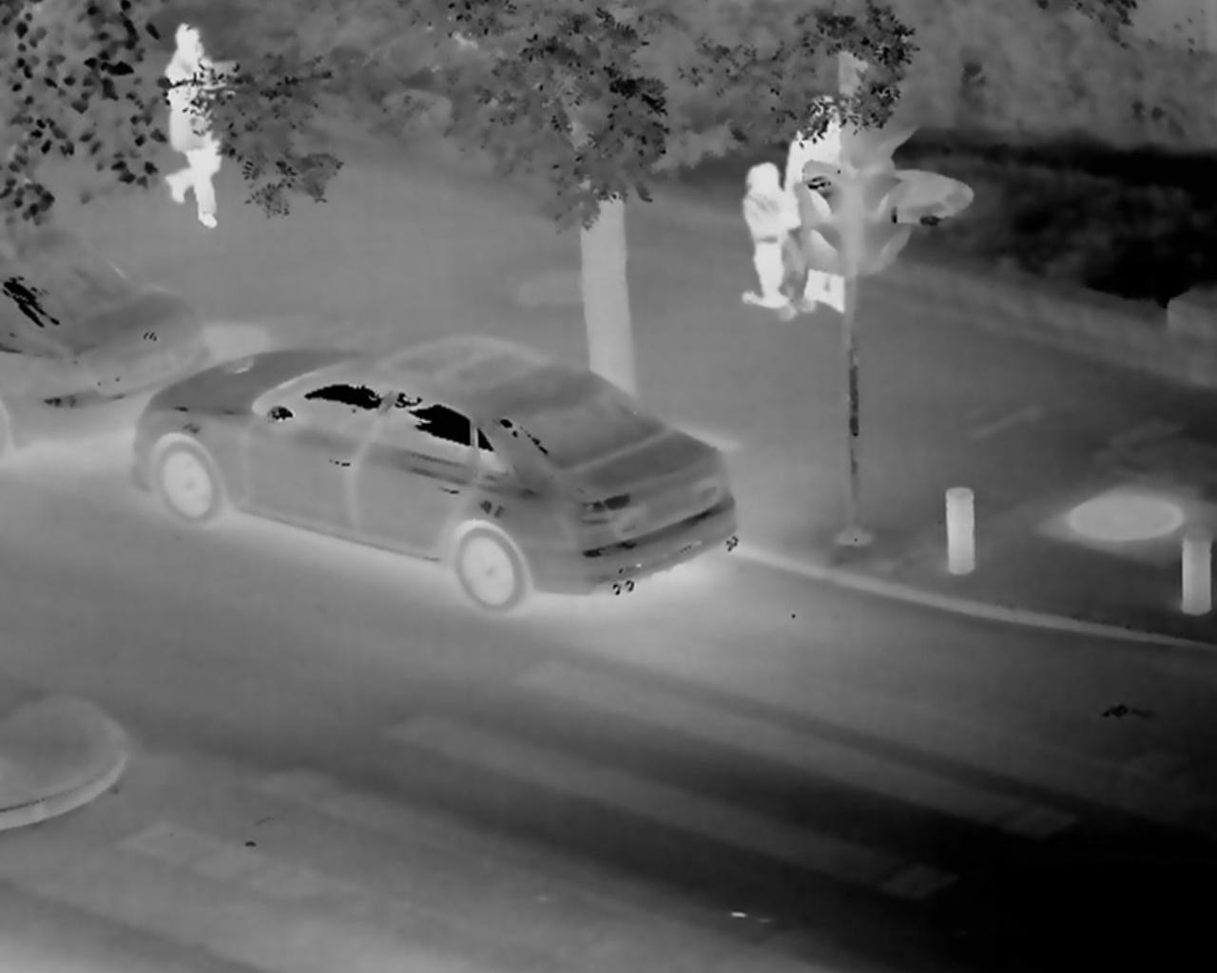person: (779, 87, 871, 319), (157, 18, 244, 237), (740, 152, 804, 315)
